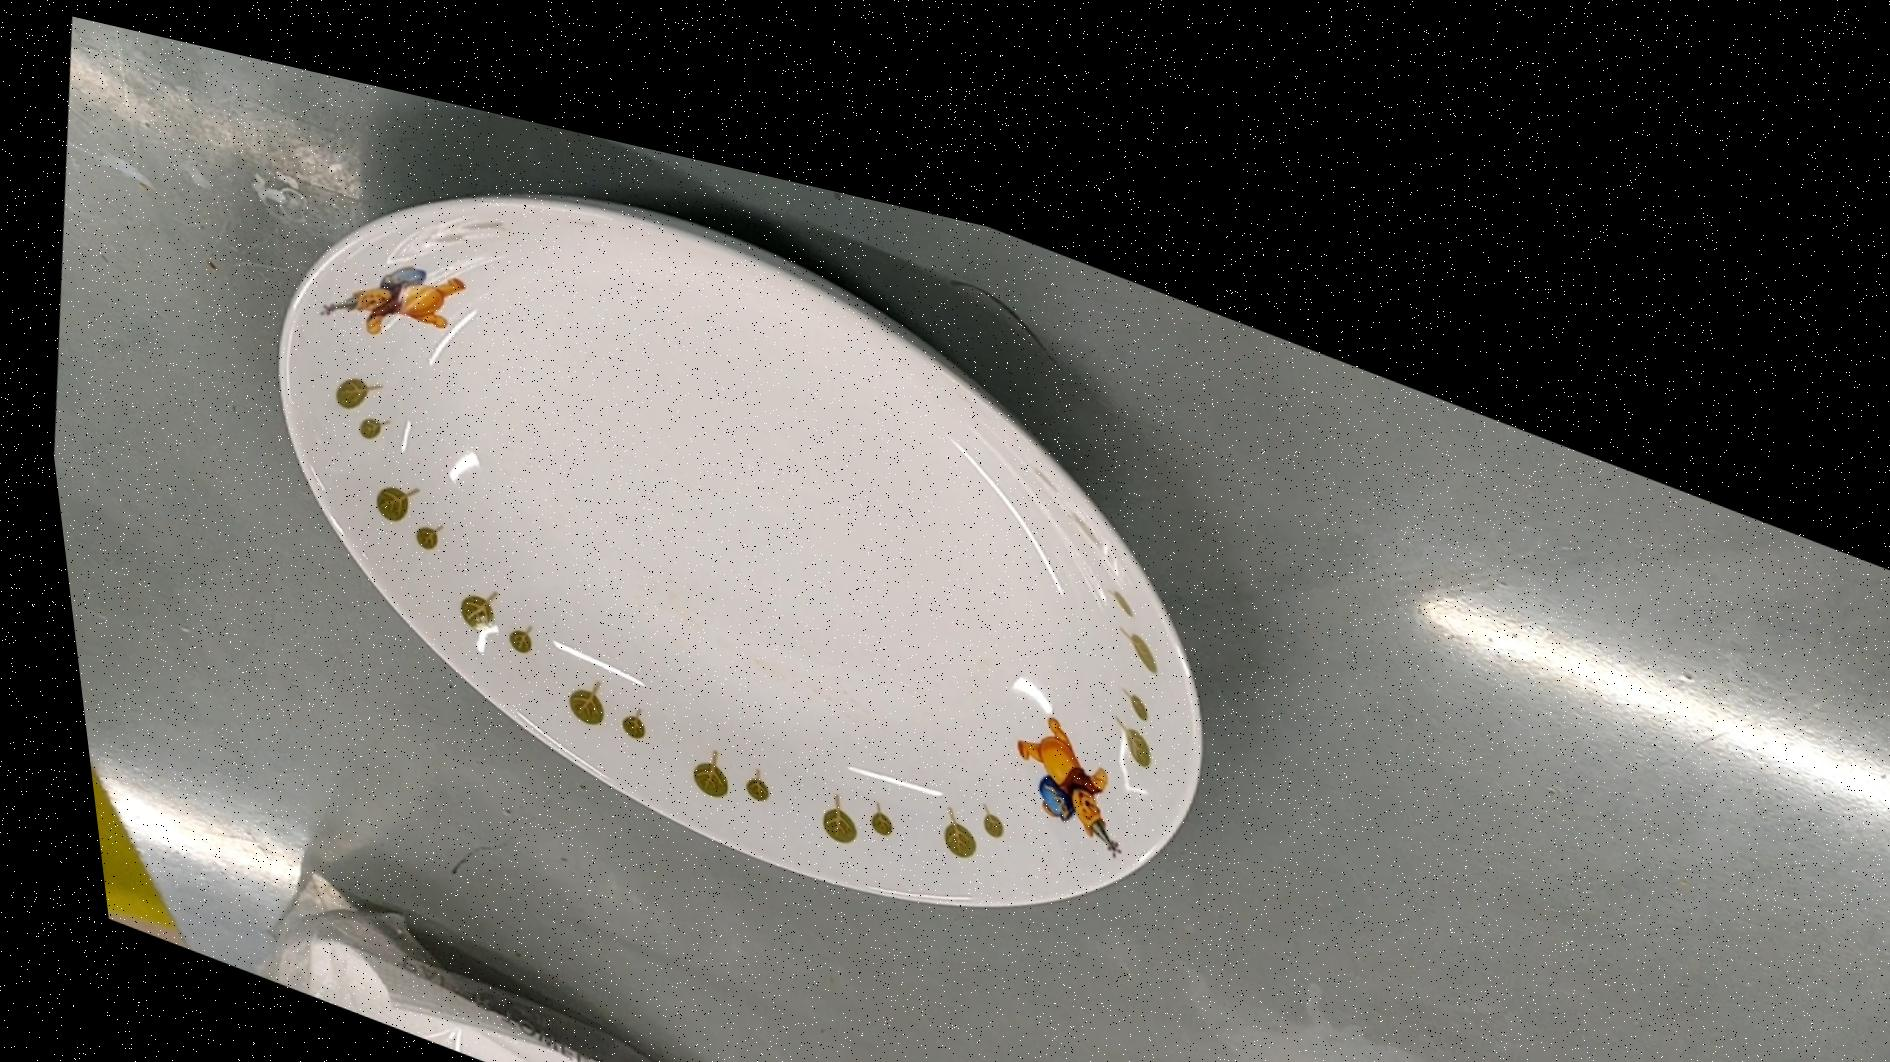plate: (192, 36, 1266, 992)
